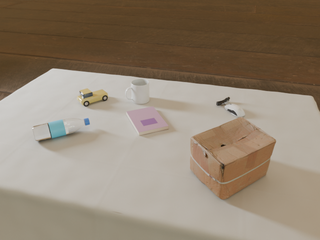book: (126, 107, 168, 135)
bottle: (32, 118, 90, 141)
box: (190, 117, 276, 199)
cup: (125, 79, 149, 104)
mouse: (225, 104, 245, 118)
toy_car: (77, 88, 108, 106)
